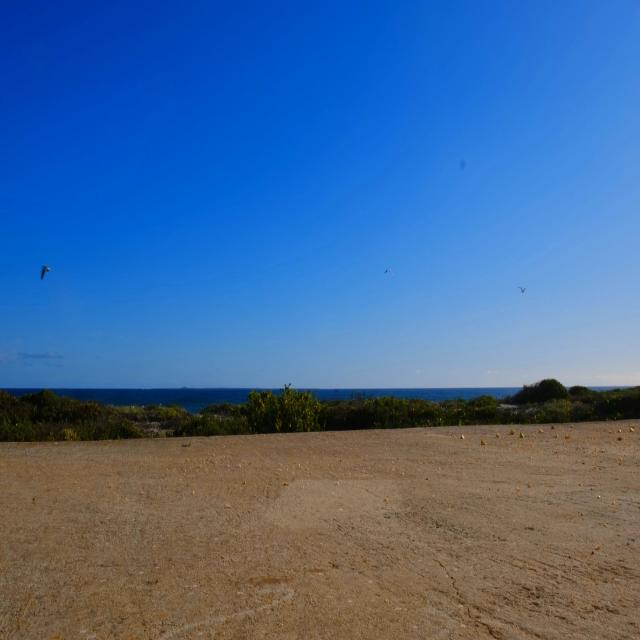bird: (36, 255, 54, 290), (382, 265, 393, 278), (518, 283, 527, 297)
